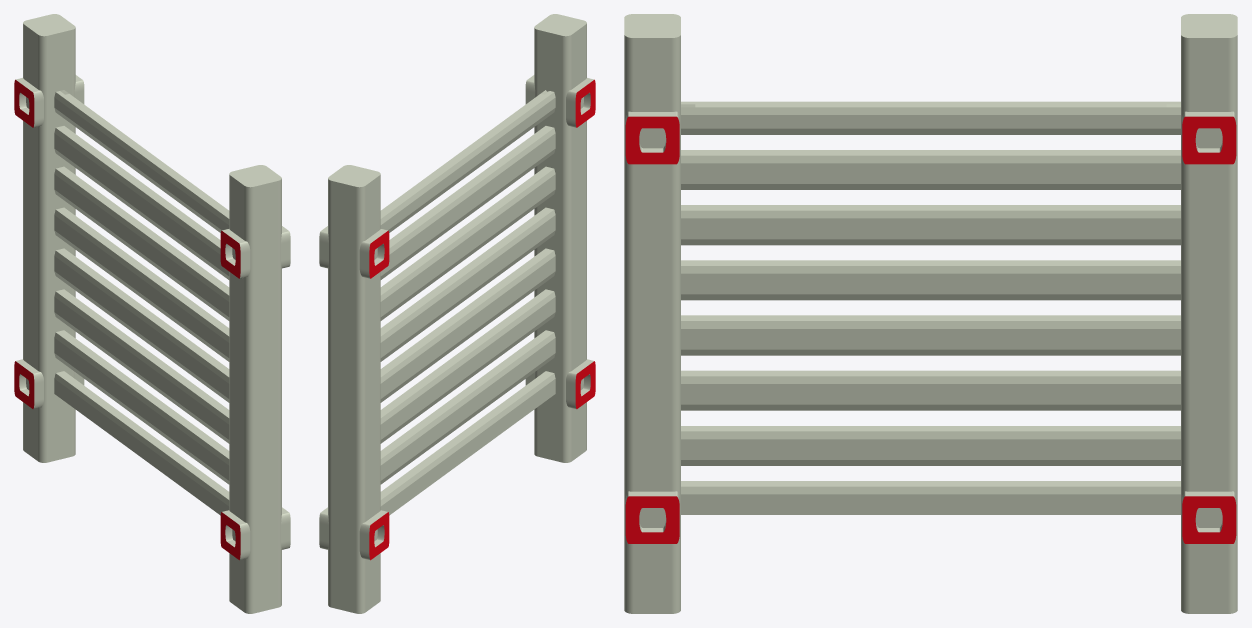
The model's file is Fence.fbx.
3 views of the same model, side by side, from view 1: azimuth 30°, elevation 25°; view 2: azimuth 150°, elevation 25°; view 3: azimuth 270°, elevation 25° (orthographic). The views are drawn at different scales.
Parts seen in each view (by area): view 1: Fence; view 2: Fence; view 3: Fence.
Part boxes in pixels (<box>): Fence: <box>14,14,290,613</box>; Fence: <box>319,14,595,613</box>; Fence: <box>624,14,1237,613</box>.
Size of the model in its own units: 72 by 586 by 565.
